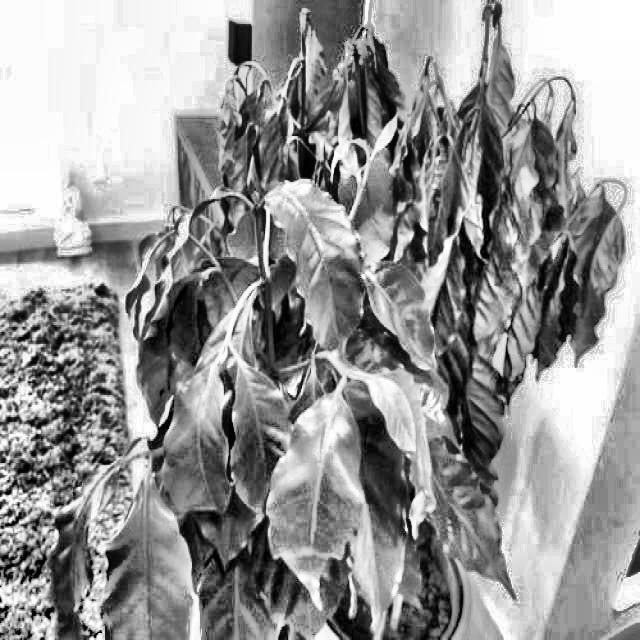plants: (53, 4, 354, 638), (359, 0, 630, 598)
